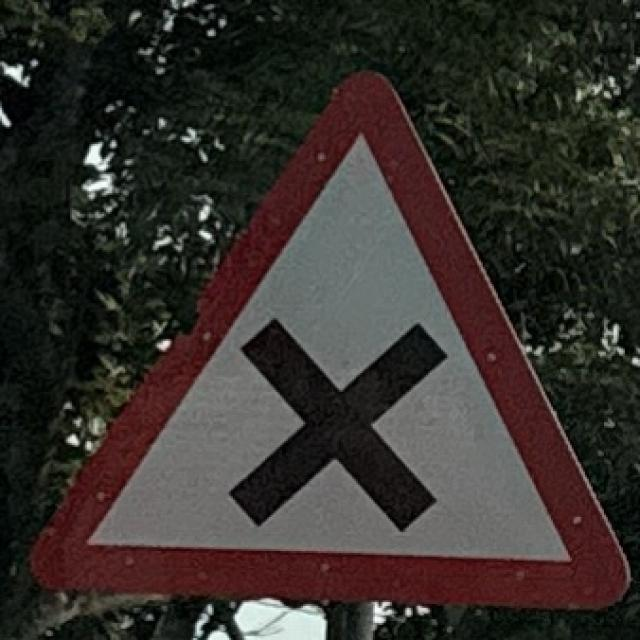CROSS_ROAD: (15, 59, 635, 619)
